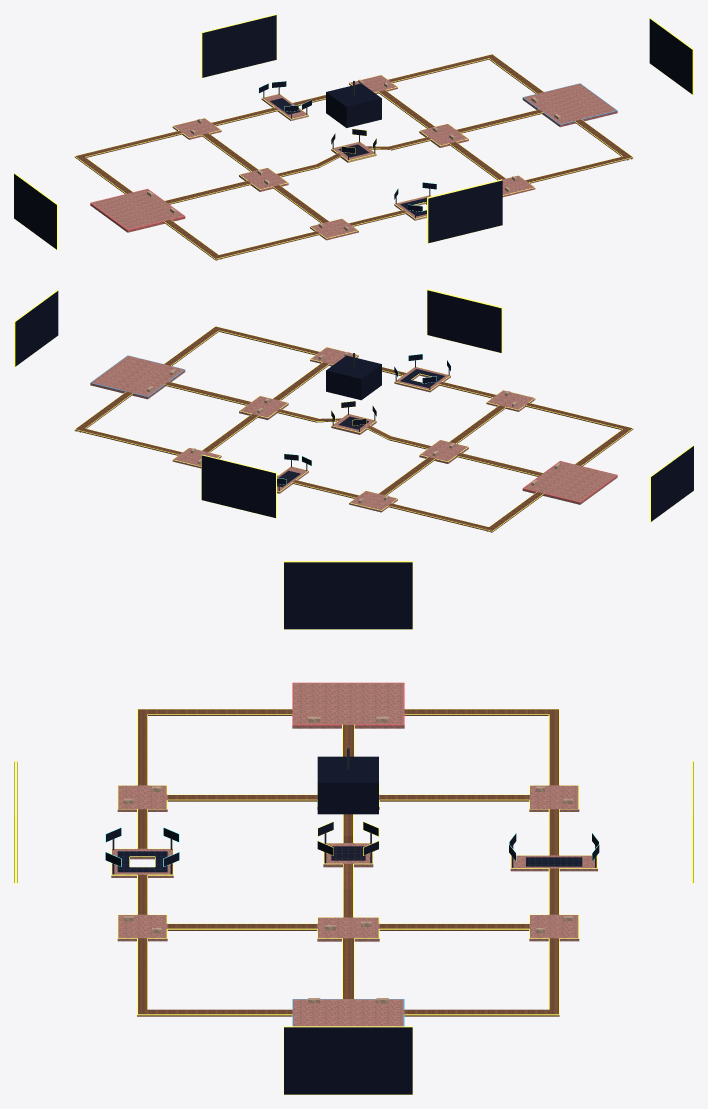
The model's file is skyreach_map_v6.glb.
The picture shows the model from 3 angles, top to bottom: view 1: azimuth 30°, elevation 25°; view 2: azimuth 150°, elevation 25°; view 3: azimuth 270°, elevation 25°; orthographic projection. The views are drawn at different scales.
Visible parts, largest first — view 1: skyreach_map_v6; view 2: skyreach_map_v6; view 3: skyreach_map_v6.
Part boxes in pixels (bbox=[...]): skyreach_map_v6: bbox=[14, 14, 693, 260]; skyreach_map_v6: bbox=[14, 289, 693, 532]; skyreach_map_v6: bbox=[14, 561, 693, 1094].
Bounding box in the file's own units: 354 × 41.45 × 218.
Materials: 20 (12 with a texture image).
